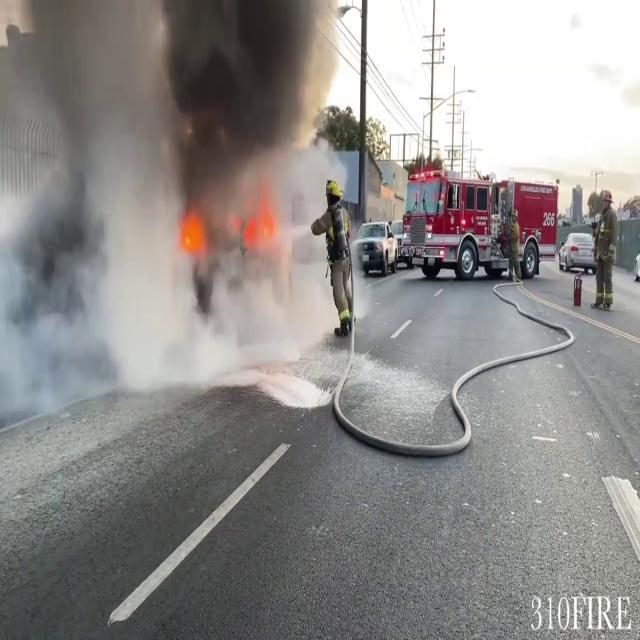Fire: (178, 202, 208, 260)
Smoke: (2, 0, 316, 402)
